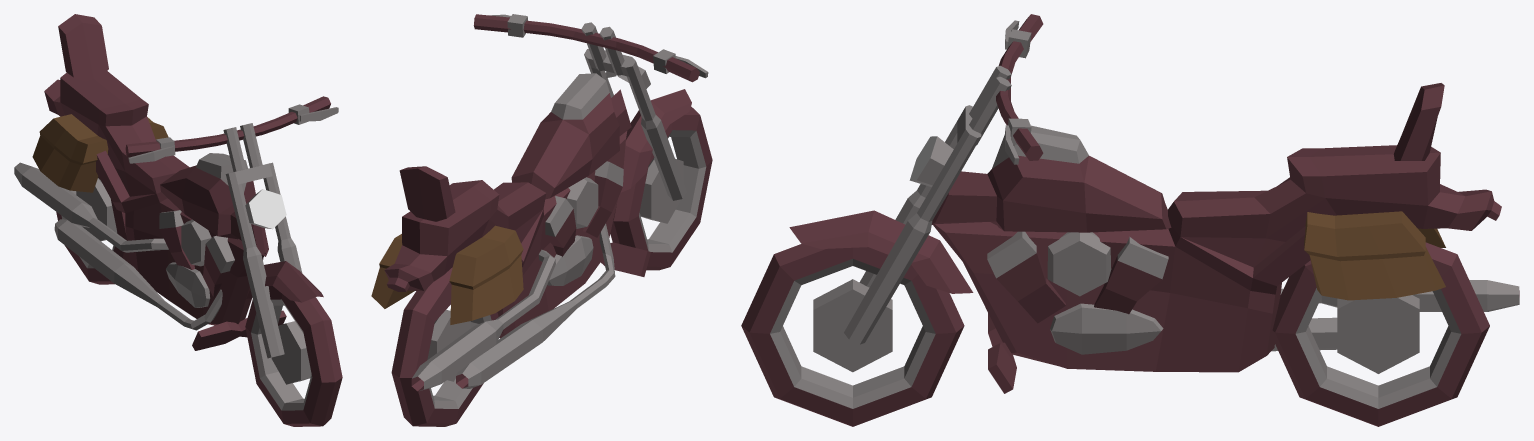
File: vehicles-motorbike-classic.glb
3 views of the same model, side by side, from view 1: azimuth 30°, elevation 25°; view 2: azimuth 150°, elevation 25°; view 3: azimuth 270°, elevation 25° (orthographic). The views are drawn at different scales.
Visible parts, largest first — view 1: motorbike-classic; view 2: motorbike-classic; view 3: motorbike-classic.
Boxes of the visible parts, bbox=[...] form: motorbike-classic: bbox=[14, 14, 342, 426]; motorbike-classic: bbox=[371, 14, 712, 426]; motorbike-classic: bbox=[741, 14, 1519, 426].
Size of the model in its own units: 0.9661 by 1.16 by 2.3.
